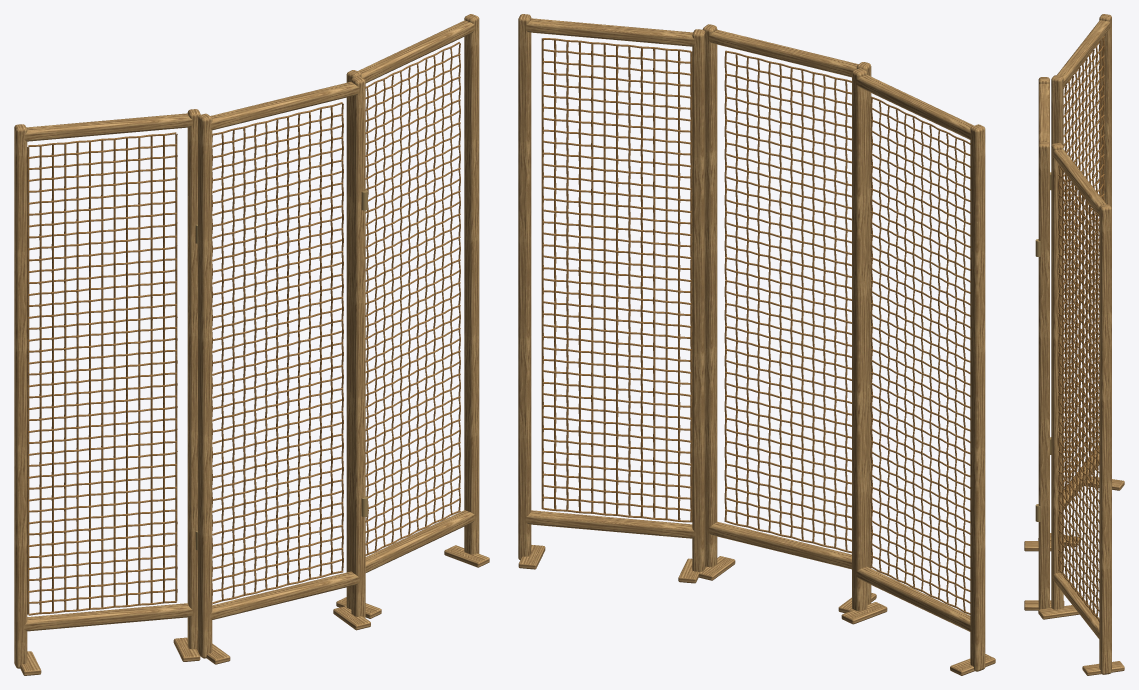
File: residential-woven-screen.glb
3 views of the same model, side by side, from view 1: azimuth 30°, elevation 25°; view 2: azimuth 150°, elevation 25°; view 3: azimuth 270°, elevation 25° (orthographic). The views are drawn at different scales.
Visible parts, largest first — view 1: cane_surfaces, oak_surfaces; view 2: cane_surfaces, oak_surfaces; view 3: oak_surfaces, cane_surfaces, bronze_surfaces.
Part boxes in pixels (<box>): cane_surfaces: <box>27,42,460,615</box>; oak_surfaces: <box>14,14,489,675</box>; cane_surfaces: <box>541,38,970,614</box>; oak_surfaces: <box>518,14,995,675</box>; oak_surfaces: <box>1024,14,1124,675</box>; cane_surfaces: <box>1058,36,1104,621</box>; bronze_surfaces: <box>1035,172,1051,521</box>.
Size of the model in its own units: 1.62 by 1.8 by 0.3507.
Materials: 3 (2 with a texture image).
